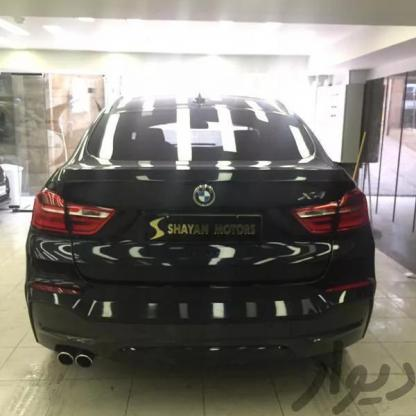Car: (25, 87, 382, 383)
